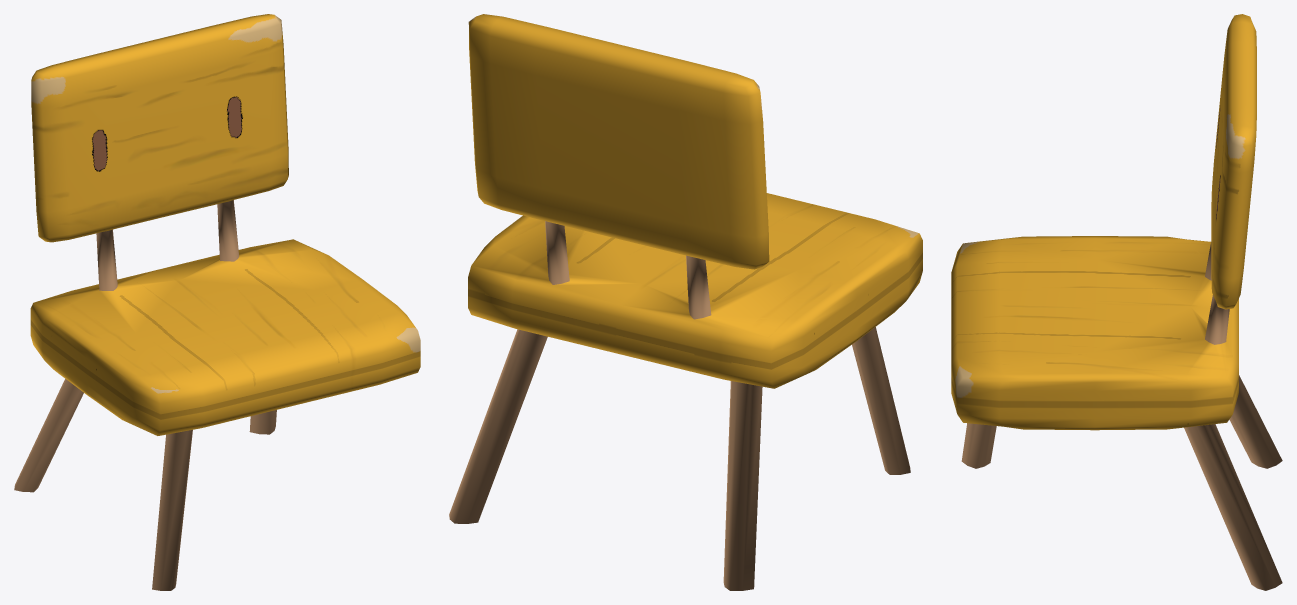
File: Cadeira.fbx
The picture shows the model from 3 angles, left to right: view 1: azimuth 30°, elevation 25°; view 2: azimuth 150°, elevation 25°; view 3: azimuth 270°, elevation 25°; orthographic projection. The views are drawn at different scales.
Visible parts, largest first — view 1: Cadeira; view 2: Cadeira; view 3: Cadeira.
Boxes of the visible parts, left/top/right/bottom form: Cadeira: left=14, top=14, right=420, bottom=590; Cadeira: left=449, top=14, right=922, bottom=590; Cadeira: left=951, top=14, right=1282, bottom=590.
Bounding box in the file's own units: 40.5 × 59.24 × 39.52.
